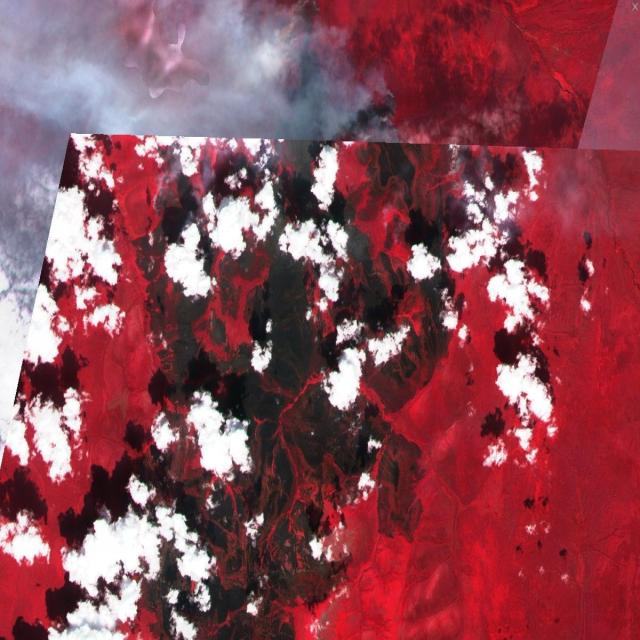fire: (370, 82, 396, 124)
